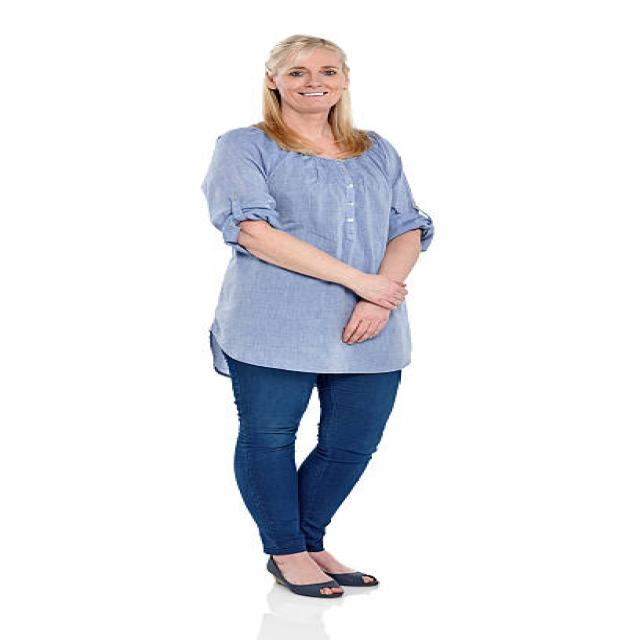Edited images: (177, 27, 456, 616)
